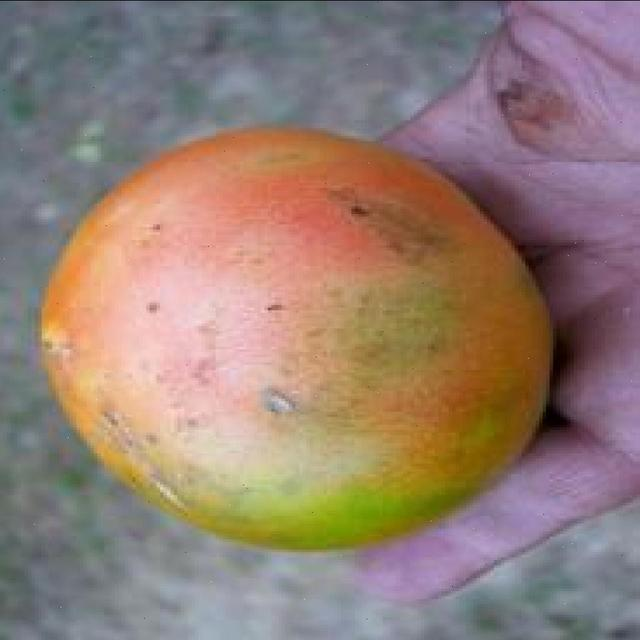Spotted wilt Virus Fruit: (23, 82, 371, 368)
